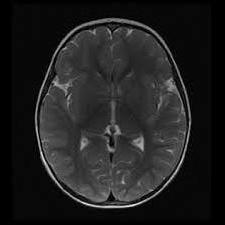Normal_Brain: (25, 1, 225, 222)
